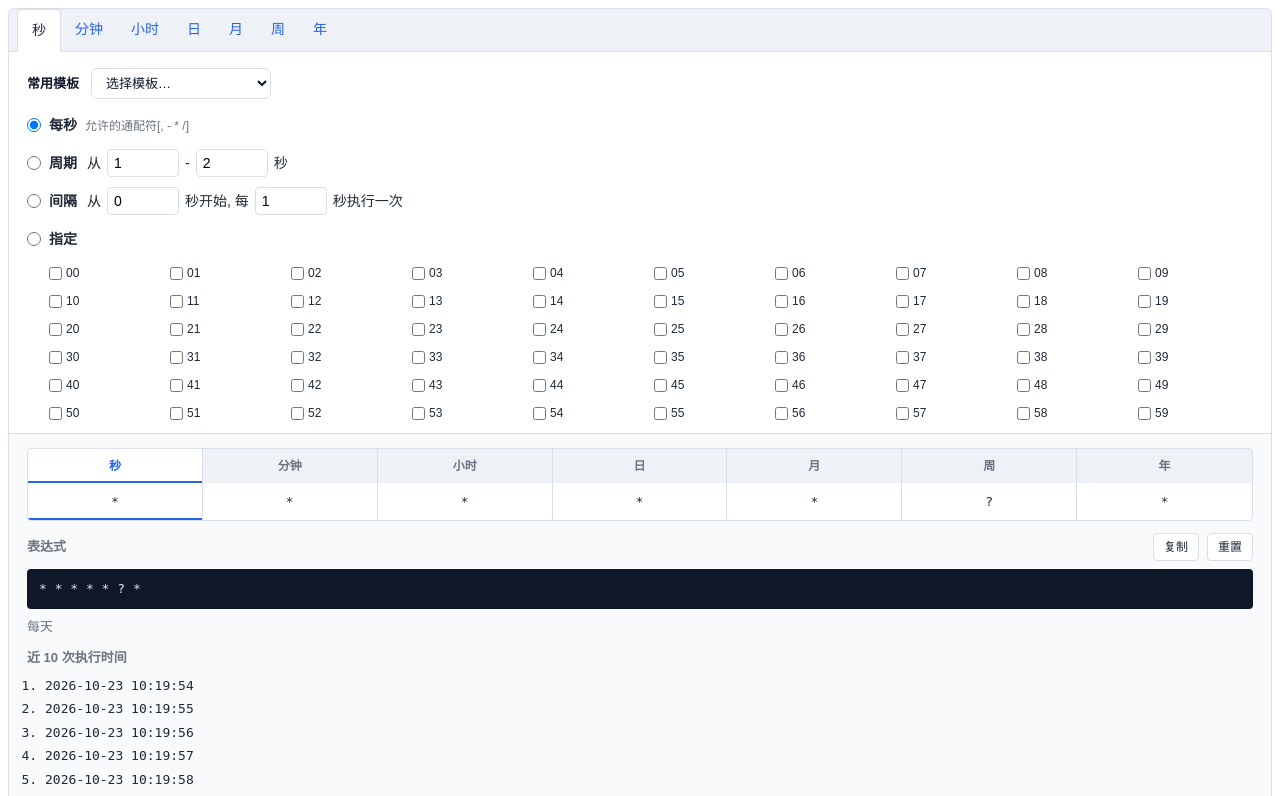
Test case: CronZen › 点击预览区字段值应切换 Tab
This screenshot has width=1280, height=796.
Click the 5th button with class "cron-zen__field-val". click: [815, 502]
box: left=727, top=483, right=902, bottom=520
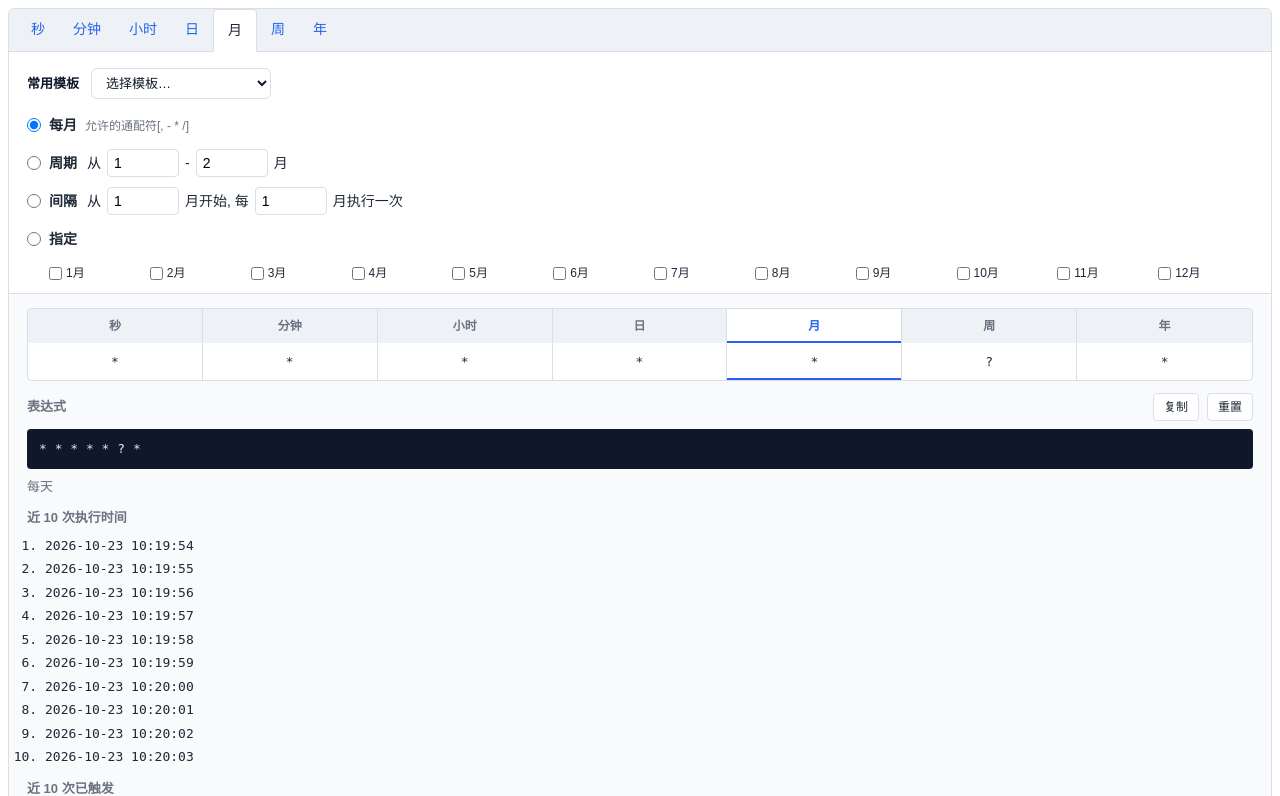
Check: the text "每月" is shown, box left=49, top=116, right=77, bottom=132
